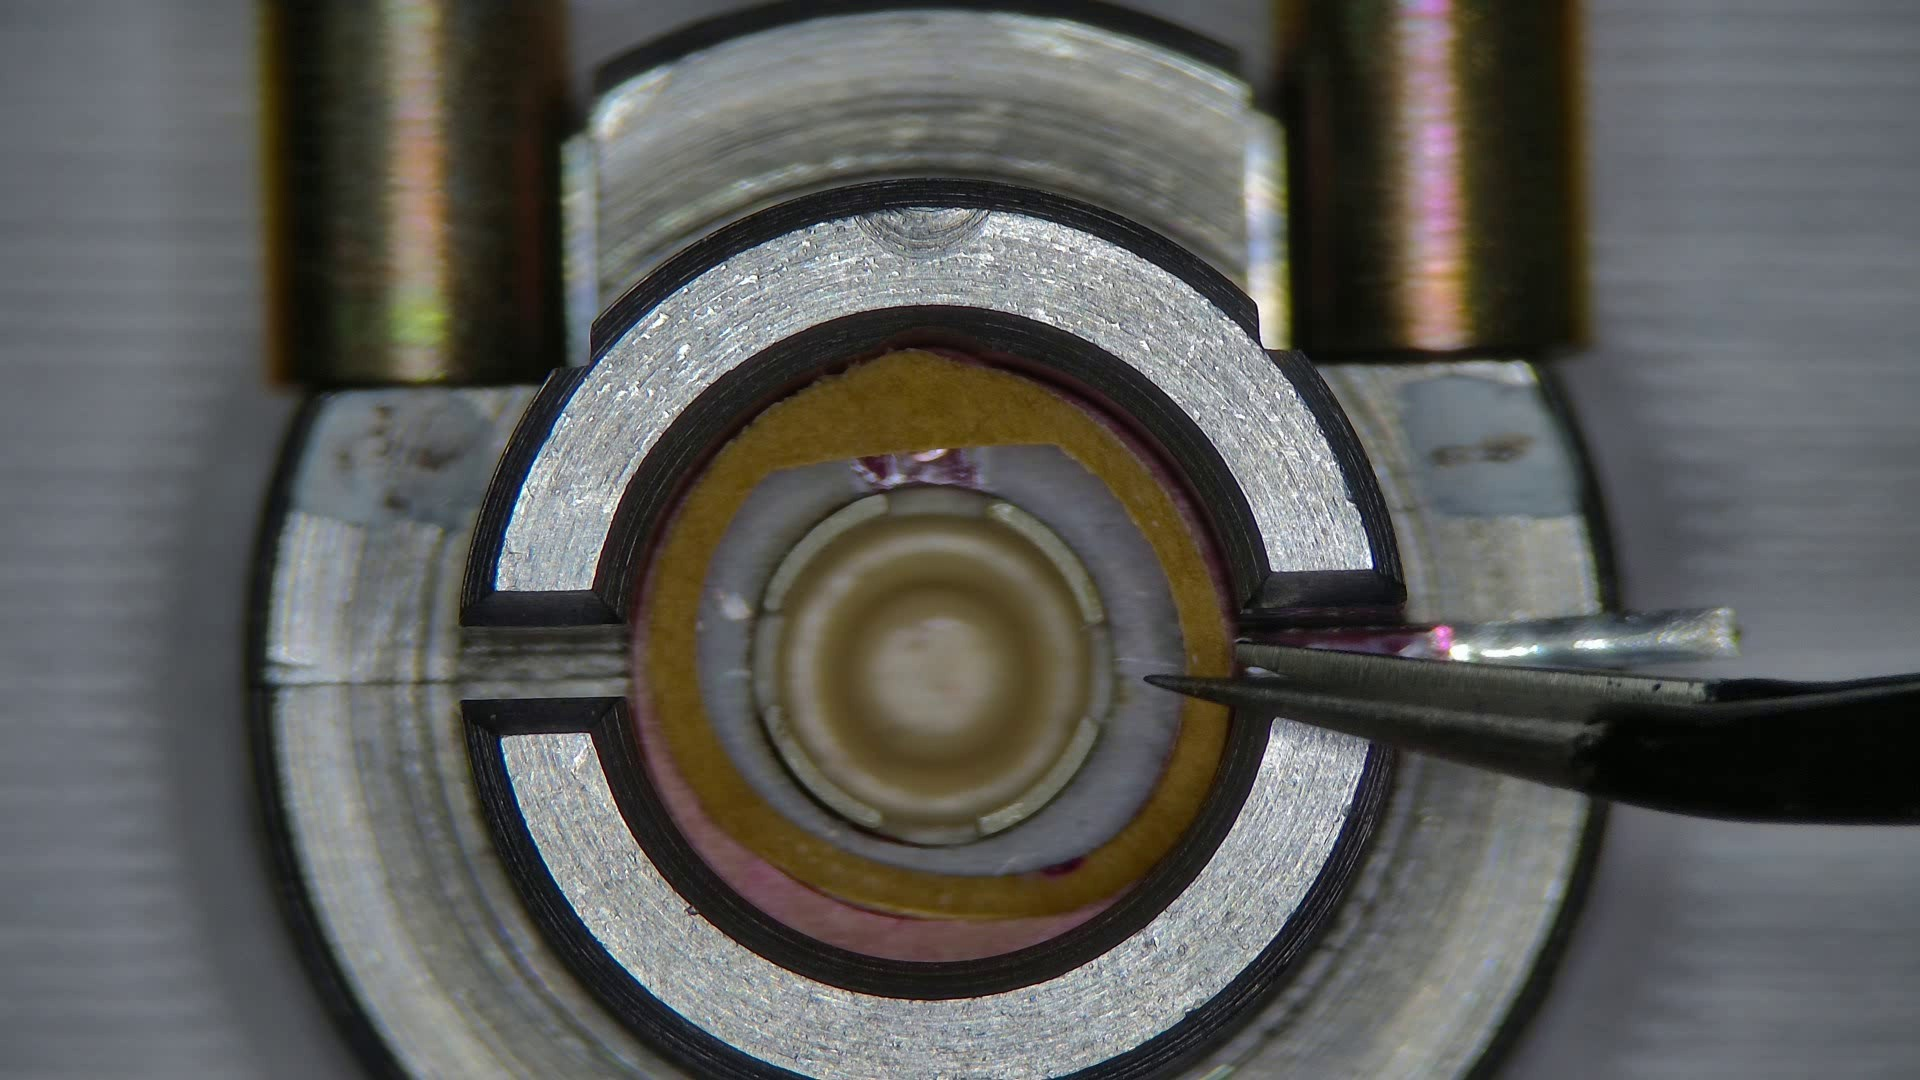GreyOring: (640, 731, 1120, 963)
YellowOring: (698, 448, 1179, 872)
redOring: (641, 349, 1229, 916)
